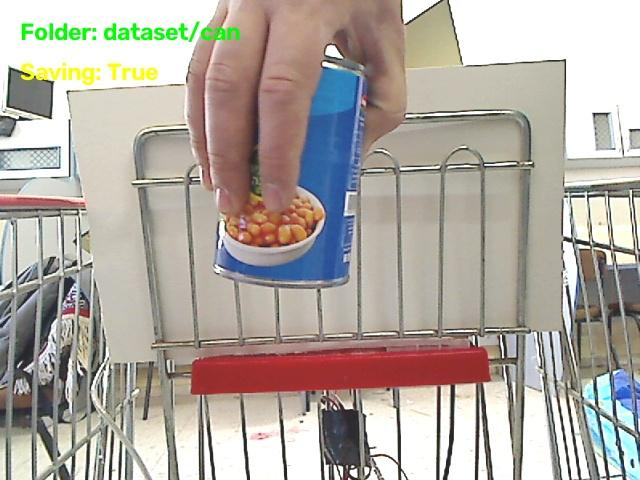can: (214, 58, 366, 287)
